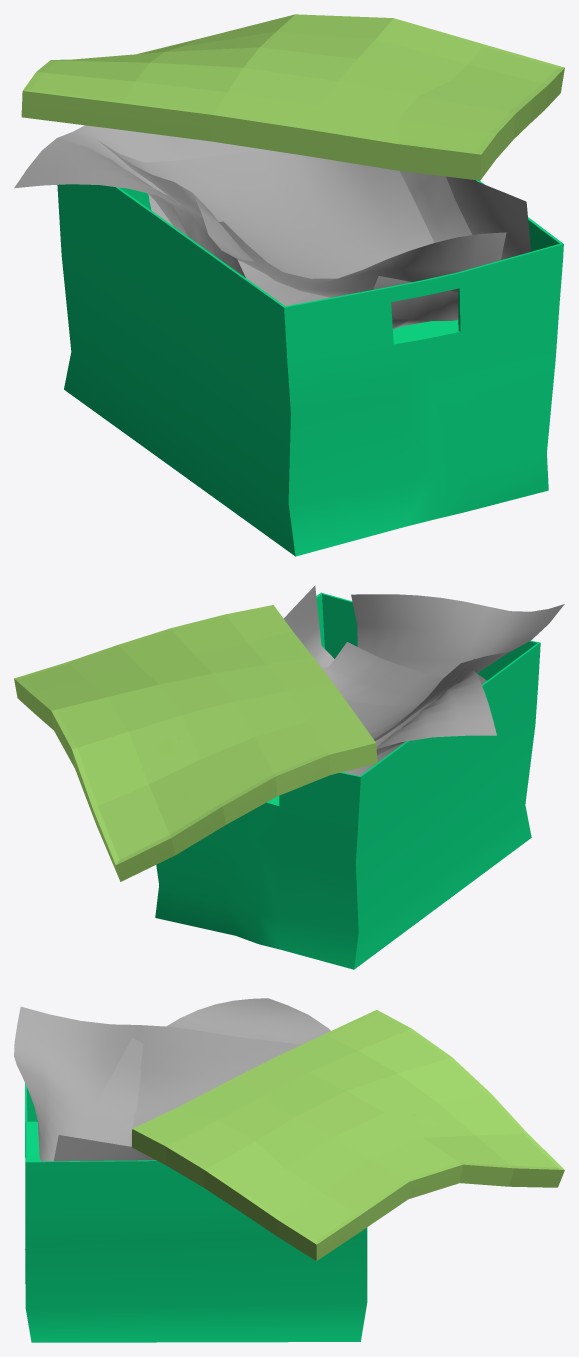
The model's file is BoiteCarton_V2.0.fbx.
3 views of the same model, one above another, from view 1: azimuth 30°, elevation 25°; view 2: azimuth 150°, elevation 25°; view 3: azimuth 270°, elevation 25° (orthographic). The views are drawn at different scales.
Visible parts, largest first — view 1: polySurface35; view 2: polySurface35; view 3: polySurface35.
Boxes of the visible parts, box(x1,y1,x2,y2) form: polySurface35: box(14, 14, 564, 556); polySurface35: box(14, 585, 564, 969); polySurface35: box(14, 998, 564, 1342).
Size of the model in its own units: 47.05 by 23.55 by 51.54.
